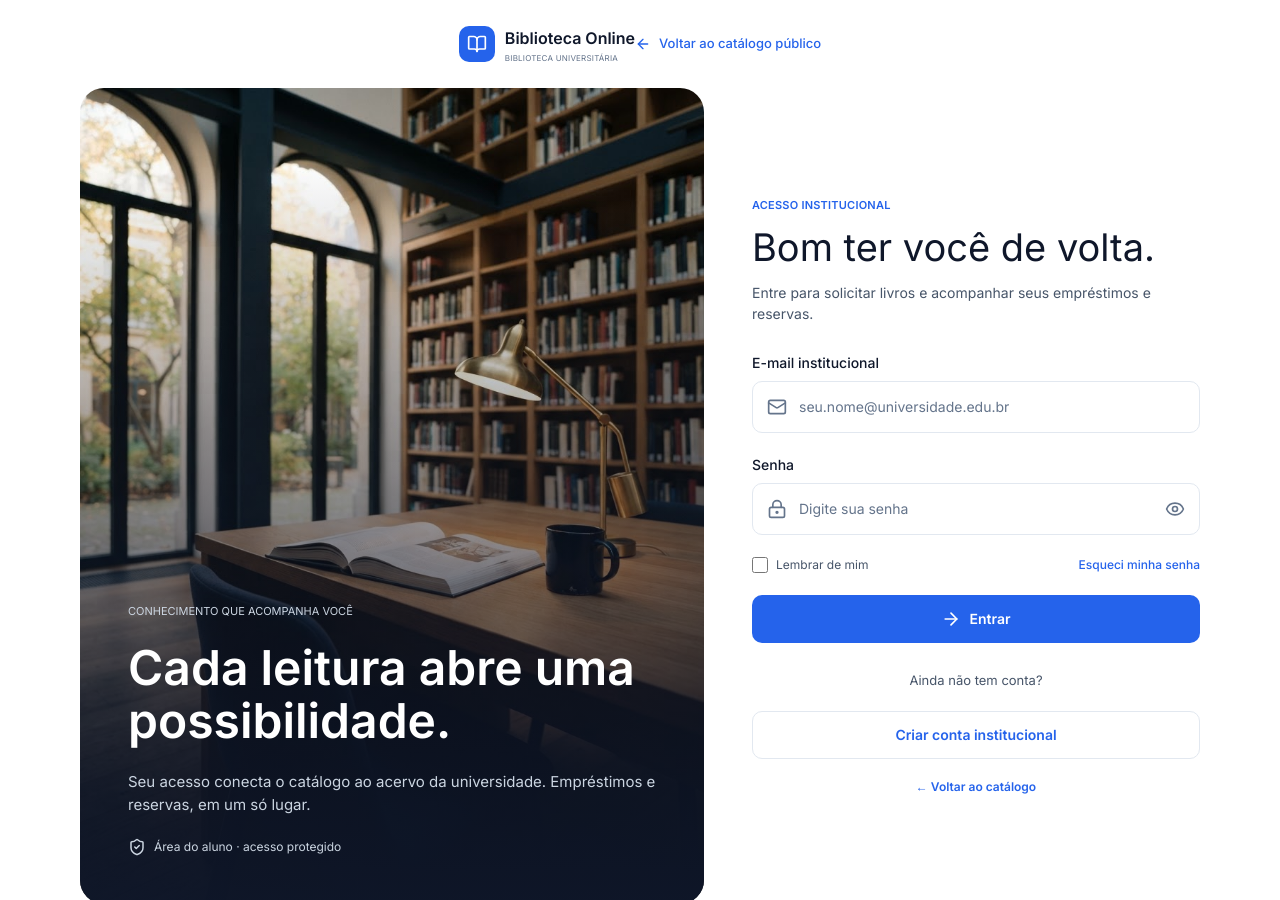
Test: mostra o erro devolvido pelo backend
In the field labelled "E-mail institucional": (992, 407) [799,397,1185,417], type "aluno@universidade.edu.br"
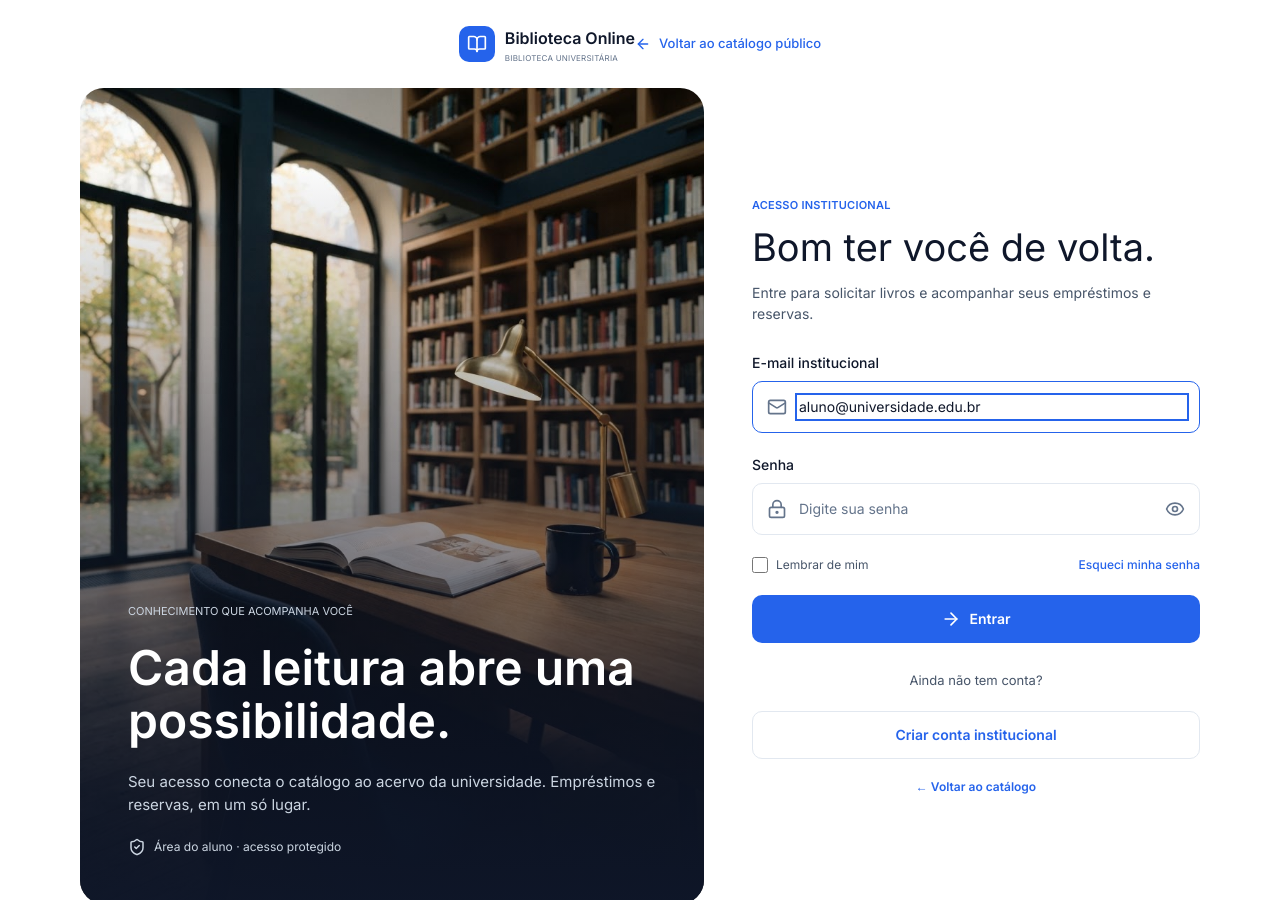
In the password field labelled "Senha": (976, 509) [799,499,1153,519], type "incorreta"
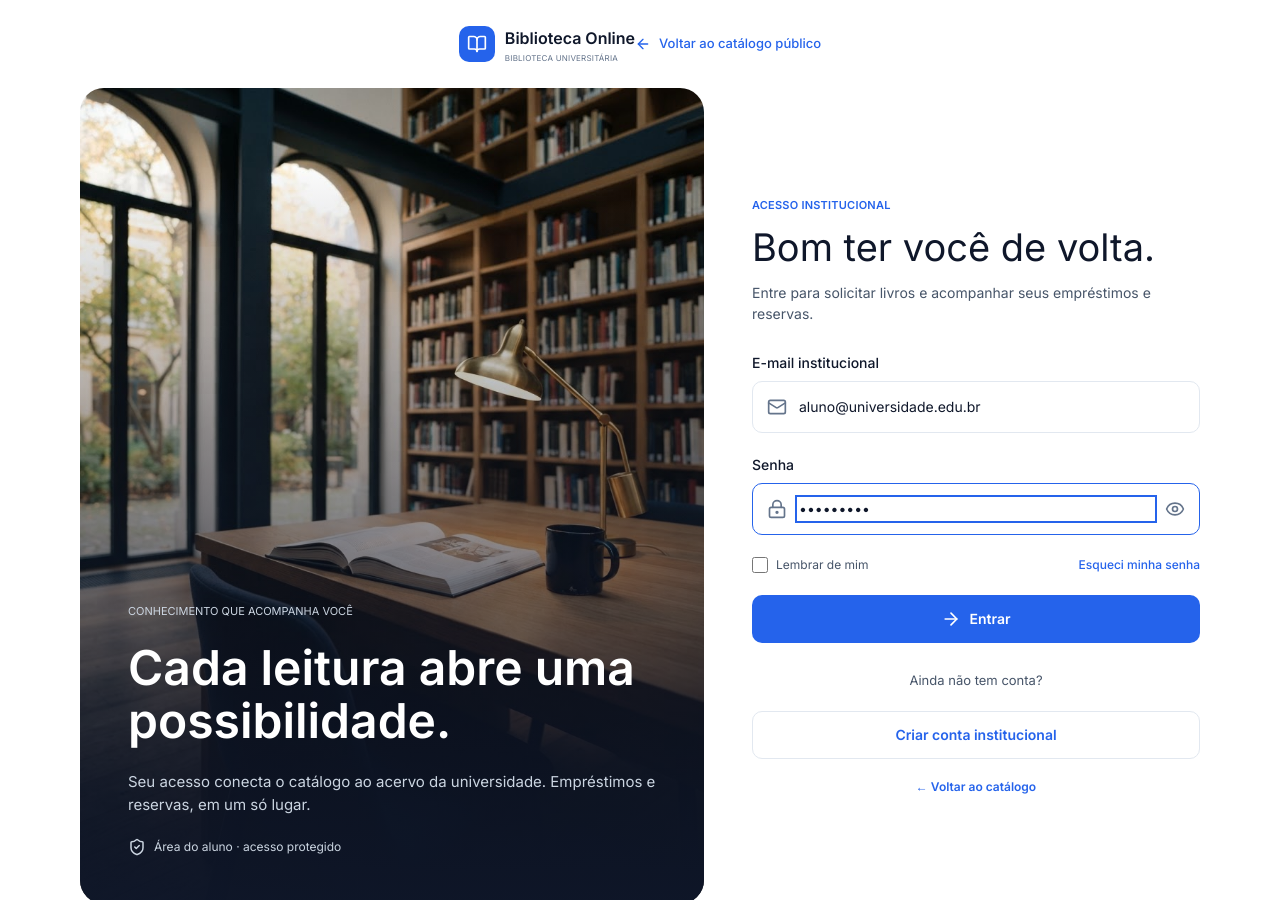
Click the button "Entrar": (976, 619) [752,595,1200,643]
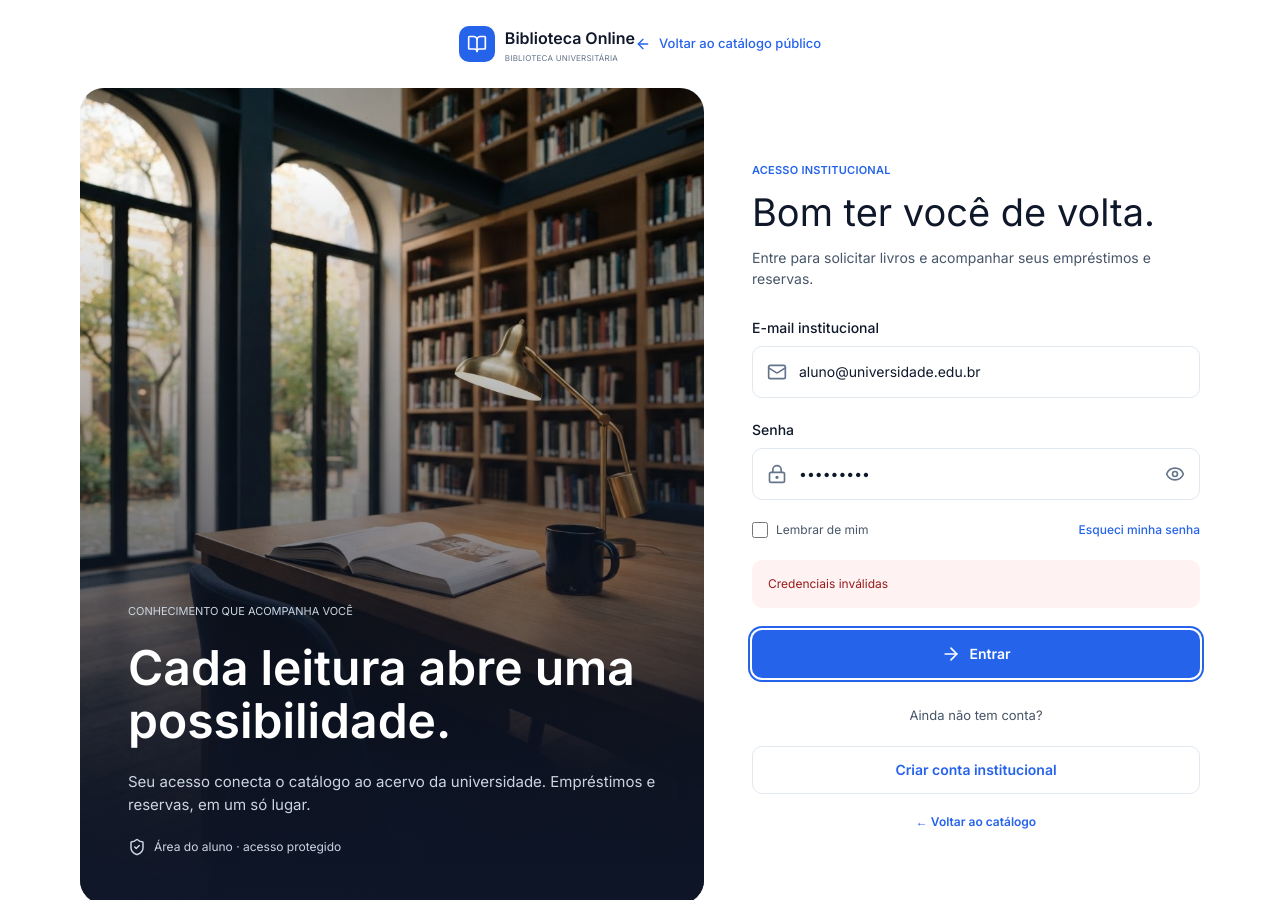
Check: the message reads "Credenciais inválidas", box [768,576,888,591]
